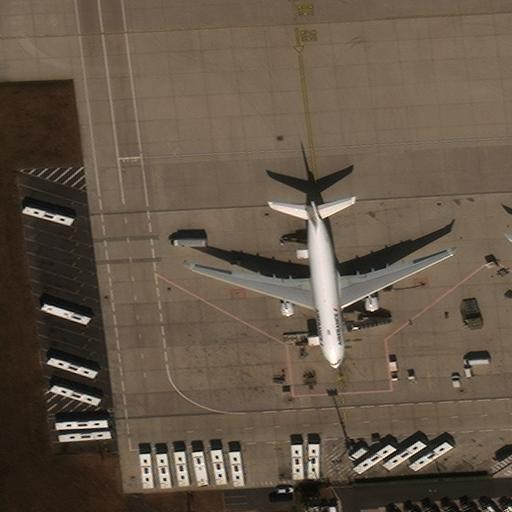Large Civil Transport: (184, 201, 455, 367)
